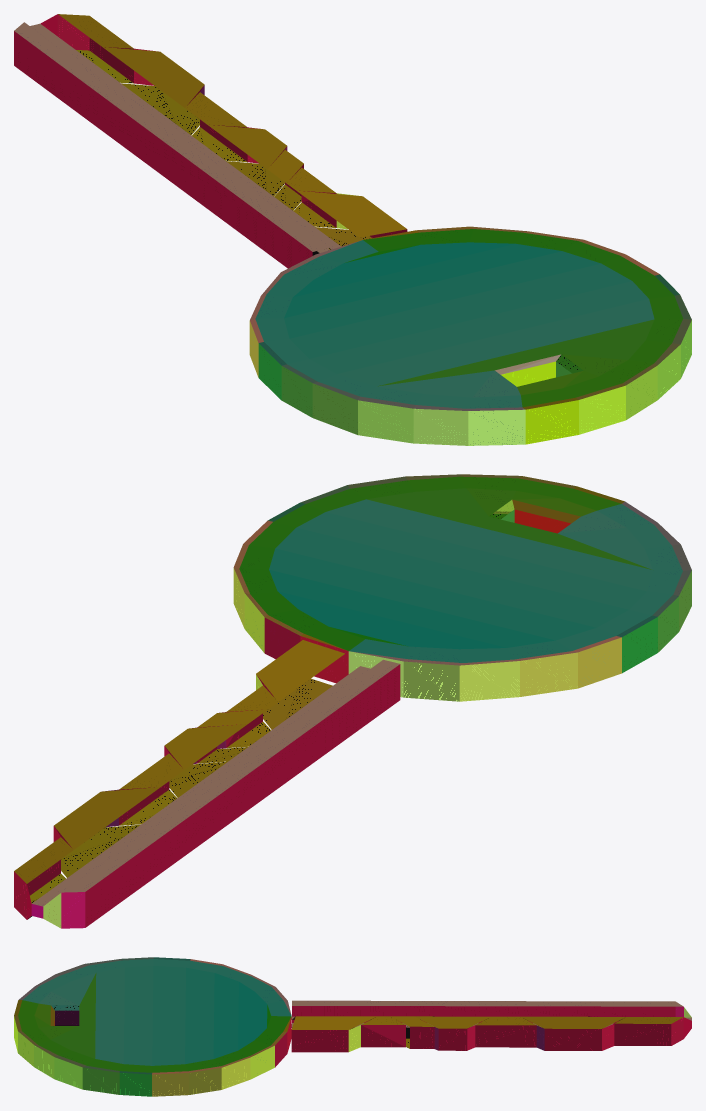
File: primary_22.glb
3 renders of one model, top to bottom at view 1: azimuth 30°, elevation 25°; view 2: azimuth 150°, elevation 25°; view 3: azimuth 270°, elevation 25°, orthographic. The views are drawn at different scales.
Visible parts, largest first — view 1: Object; view 2: Object; view 3: Object.
Boxes of the visible parts, <box> form: Object: <box>14,14,691,445</box>; Object: <box>14,474,691,928</box>; Object: <box>14,957,691,1096</box>.
Size of the model in its own units: 0.1154 by 0.0102 by 0.2817.
197 materials, 197 textured.
